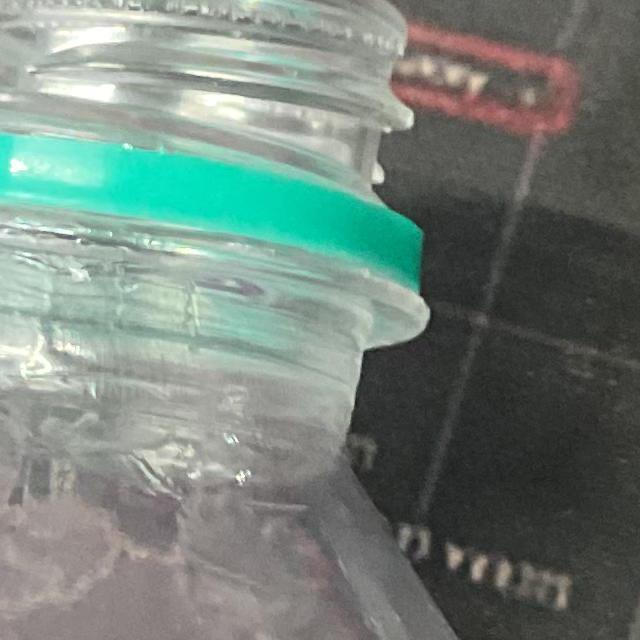open-cap: (0, 0, 432, 278)
